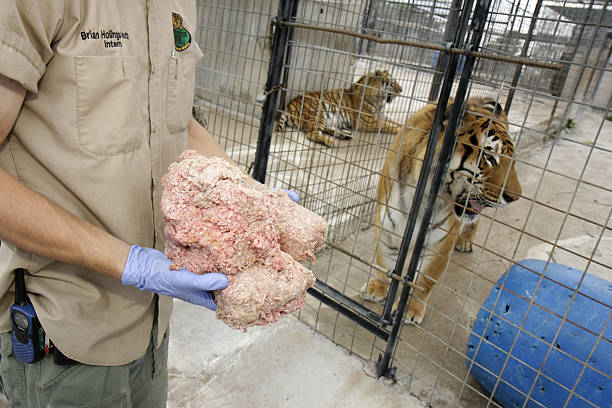ground_beef: (157, 164, 280, 274)
